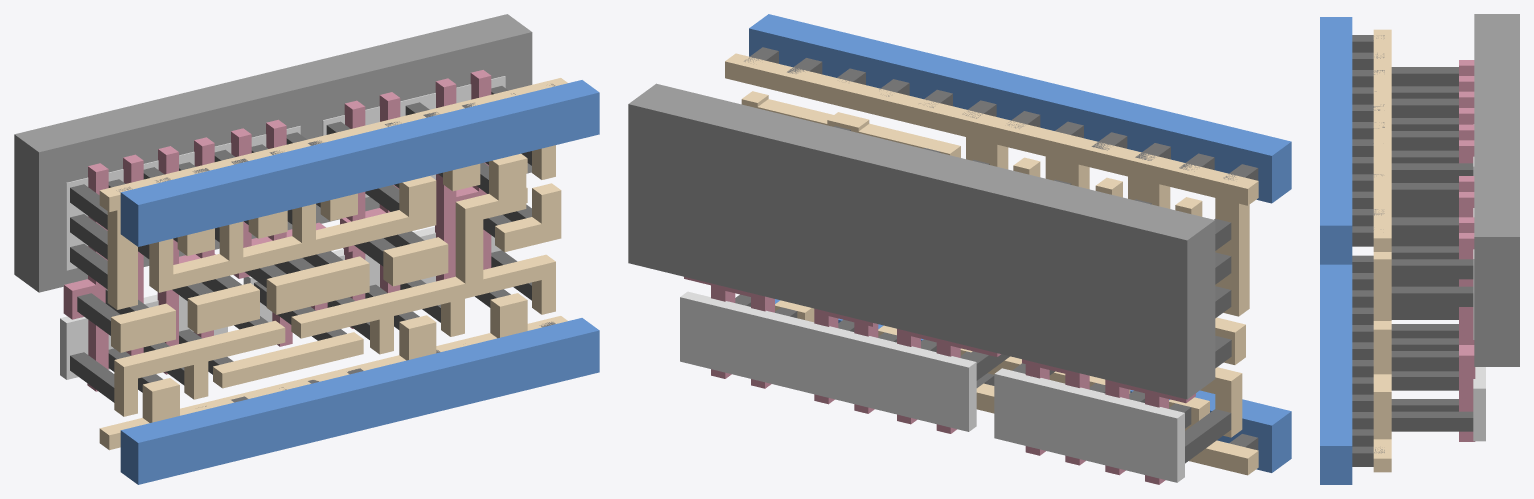
The model's file is sky130_fd_sc_hd__a311oi_2.gds.gltf.
The picture shows the model from 3 angles, left to right: view 1: azimuth 30°, elevation 25°; view 2: azimuth 150°, elevation 25°; view 3: azimuth 270°, elevation 25°; orthographic projection. The views are drawn at different scales.
Visible parts, largest first — view 1: sky130_fd_sc_hd__a311oi_2_li1, sky130_fd_sc_hd__a311oi_2_met1, sky130_fd_sc_hd__a311oi_2_nwell, sky130_fd_sc_hd__a311oi_2_licon, sky130_fd_sc_hd__a311oi_2_poly, sky130_fd_sc_hd__a311oi_2_diff, sky130_fd_sc_hd__a311oi_2_mcon; view 2: sky130_fd_sc_hd__a311oi_2_nwell, sky130_fd_sc_hd__a311oi_2_diff, sky130_fd_sc_hd__a311oi_2_li1, sky130_fd_sc_hd__a311oi_2_met1, sky130_fd_sc_hd__a311oi_2_poly, sky130_fd_sc_hd__a311oi_2_licon, sky130_fd_sc_hd__a311oi_2_mcon; view 3: sky130_fd_sc_hd__a311oi_2_licon, sky130_fd_sc_hd__a311oi_2_nwell, sky130_fd_sc_hd__a311oi_2_met1, sky130_fd_sc_hd__a311oi_2_mcon, sky130_fd_sc_hd__a311oi_2_li1, sky130_fd_sc_hd__a311oi_2_poly, sky130_fd_sc_hd__a311oi_2_diff.
Boxes of the visible parts, left/top/right/bottom form: sky130_fd_sc_hd__a311oi_2_li1: left=99, top=78, right=567, bottom=450; sky130_fd_sc_hd__a311oi_2_met1: left=120, top=80, right=599, bottom=484; sky130_fd_sc_hd__a311oi_2_nwell: left=14, top=14, right=532, bottom=292; sky130_fd_sc_hd__a311oi_2_licon: left=70, top=86, right=531, bottom=402; sky130_fd_sc_hd__a311oi_2_poly: left=63, top=70, right=491, bottom=391; sky130_fd_sc_hd__a311oi_2_diff: left=60, top=76, right=505, bottom=379; sky130_fd_sc_hd__a311oi_2_mcon: left=116, top=84, right=555, bottom=407; sky130_fd_sc_hd__a311oi_2_nwell: left=628, top=83, right=1215, bottom=399; sky130_fd_sc_hd__a311oi_2_diff: left=680, top=291, right=1184, bottom=482; sky130_fd_sc_hd__a311oi_2_li1: left=725, top=53, right=1258, bottom=475; sky130_fd_sc_hd__a311oi_2_met1: left=749, top=14, right=1291, bottom=472; sky130_fd_sc_hd__a311oi_2_poly: left=684, top=277, right=1195, bottom=484; sky130_fd_sc_hd__a311oi_2_licon: left=735, top=126, right=1231, bottom=463; sky130_fd_sc_hd__a311oi_2_mcon: left=744, top=47, right=1258, bottom=450; sky130_fd_sc_hd__a311oi_2_licon: left=1391, top=67, right=1473, bottom=431; sky130_fd_sc_hd__a311oi_2_nwell: left=1474, top=14, right=1519, bottom=366; sky130_fd_sc_hd__a311oi_2_met1: left=1320, top=17, right=1352, bottom=484; sky130_fd_sc_hd__a311oi_2_mcon: left=1352, top=35, right=1384, bottom=466; sky130_fd_sc_hd__a311oi_2_li1: left=1373, top=29, right=1391, bottom=472; sky130_fd_sc_hd__a311oi_2_poly: left=1459, top=60, right=1475, bottom=441; sky130_fd_sc_hd__a311oi_2_diff: left=1473, top=124, right=1485, bottom=441.
Bounding box in the file's own units: 5.9 × 3.2 × 2.24.
